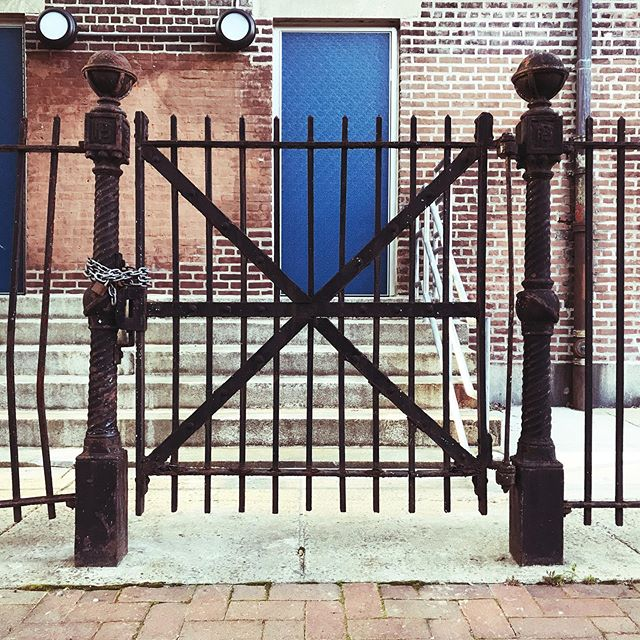door: (270, 32, 394, 299)
gate: (126, 103, 560, 541)
lock: (81, 266, 121, 310)
